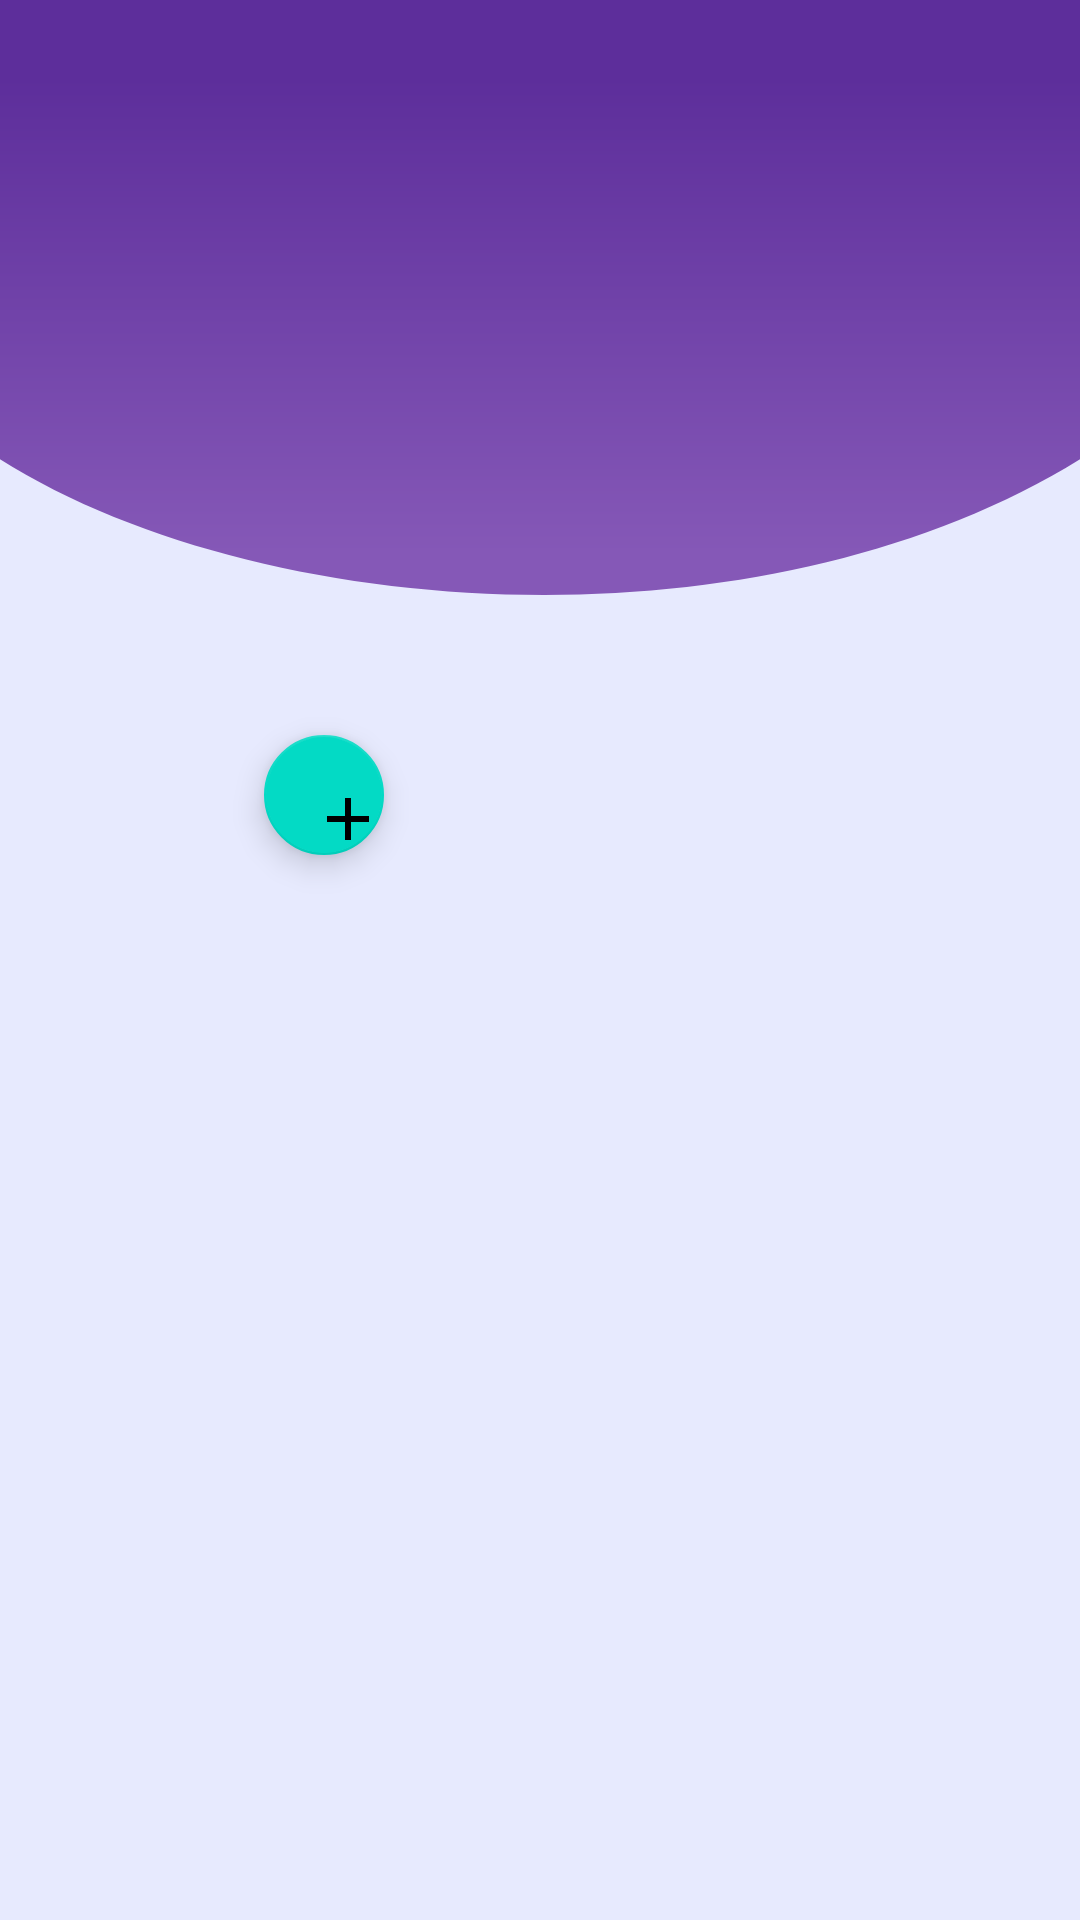

Icon click points for this 1080px x 1920px phone screenshot, format (x=x, y=y):
add: (x=324, y=795)
